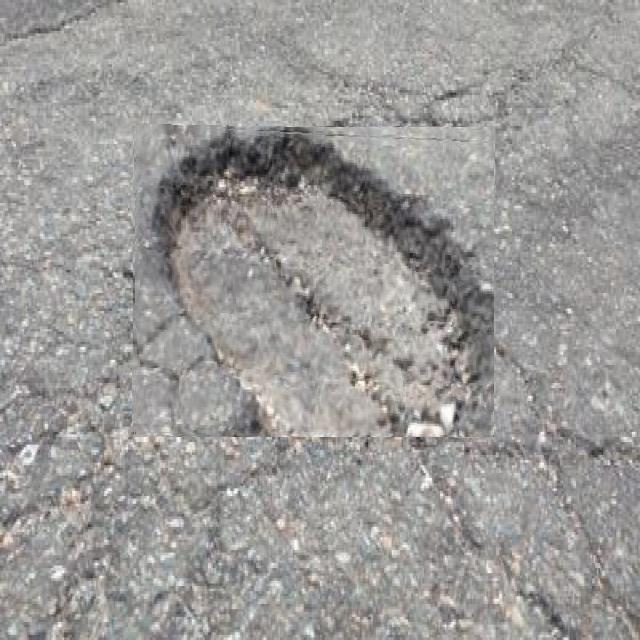Pothole: (133, 125, 494, 437)
